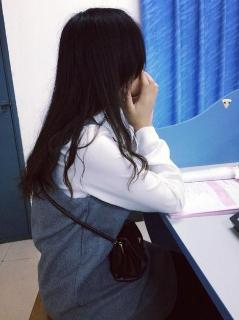long sleeve top: (31, 109, 186, 272)
vest: (31, 117, 178, 319)
